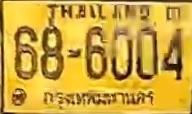0: (135, 26, 158, 79), (110, 26, 132, 80)
4: (162, 27, 183, 80)
6: (14, 25, 37, 79), (85, 25, 107, 78)
8: (40, 25, 63, 79)
BKK: (41, 86, 157, 112)
